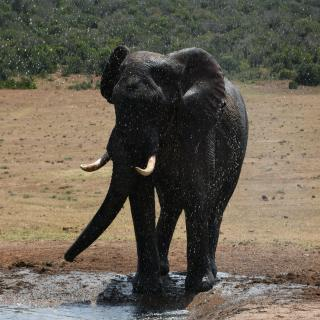Elephant: (62, 45, 254, 305)
